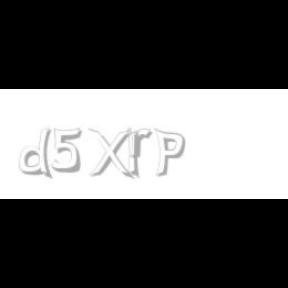5: (50, 128, 82, 174)
P: (153, 128, 185, 178)
X: (88, 128, 132, 180)
d: (20, 128, 56, 180)
l: (127, 128, 143, 180)
r: (128, 128, 156, 158)
